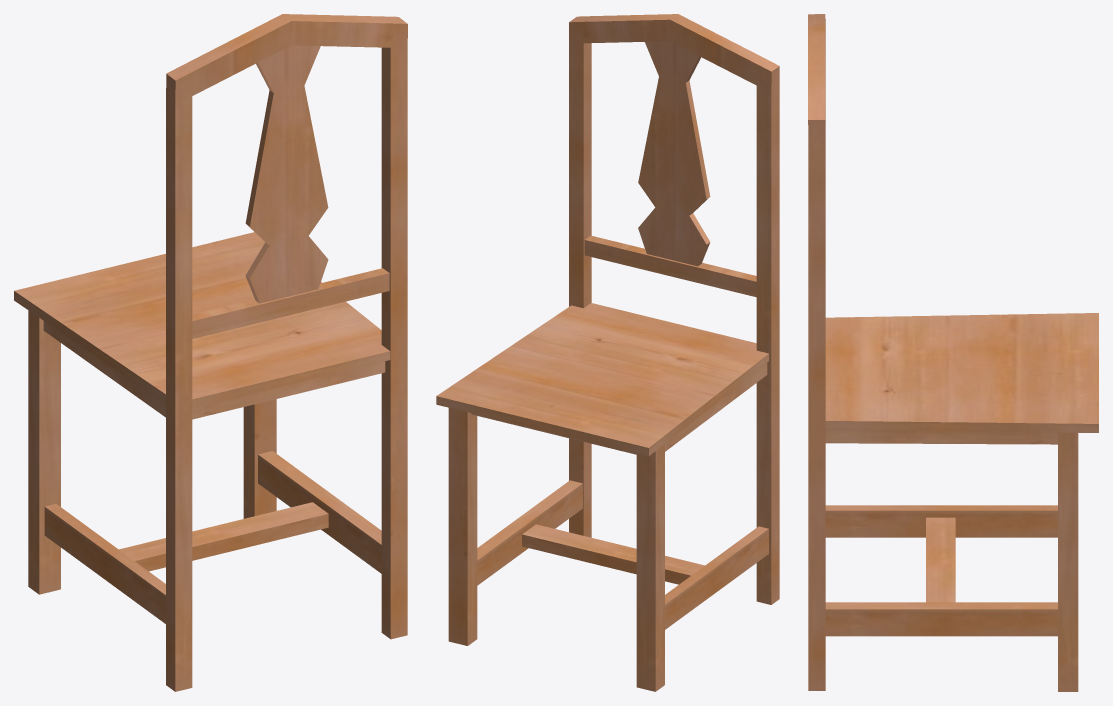
File: Chair_12.glb
3 views of the same model, side by side, from view 1: azimuth 30°, elevation 25°; view 2: azimuth 150°, elevation 25°; view 3: azimuth 270°, elevation 25° (orthographic). The views are drawn at different scales.
Parts seen in each view (by area): view 1: Chair_12; view 2: Chair_12; view 3: Chair_12.
Boxes of the visible parts, x1,y1,x2,y2 form: Chair_12: (14, 14, 407, 691); Chair_12: (436, 14, 779, 691); Chair_12: (808, 14, 1098, 691).
Size of the model in its own units: 0.4706 by 1.19 by 0.5207.
Materials: 1 (1 with a texture image).
